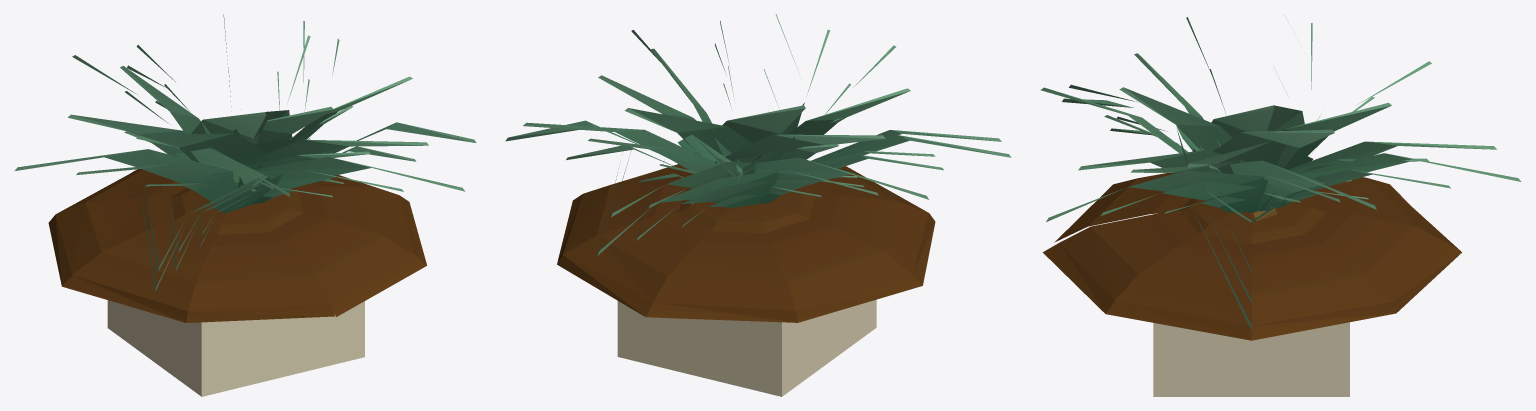
The model's file is cauliflower.glb.
3 views of the same model, side by side, from view 1: azimuth 30°, elevation 25°; view 2: azimuth 150°, elevation 25°; view 3: azimuth 270°, elevation 25° (orthographic). The views are drawn at different scales.
Parts seen in each view (by area): view 1: stage2_soil, fruit_fruitMatte, stage4_leaf, stage4_l1_leaf, stage0_soil, stage3_leaf, stage3_l1_leaf, stage2_leaf; view 2: stage2_soil, fruit_fruitMatte, stage4_leaf, stage4_l1_leaf, stage0_soil, stage3_leaf, stage3_l1_leaf, stage2_leaf; view 3: stage2_soil, stage4_leaf, fruit_fruitMatte, stage4_l1_leaf, stage0_soil, stage3_leaf, stage2_leaf, stage3_l1_leaf.
Boxes of the visible parts, bbox=[...] form: stage2_soil: bbox=[48, 169, 426, 322]; fruit_fruitMatte: bbox=[107, 300, 364, 396]; stage4_leaf: bbox=[14, 14, 476, 291]; stage4_l1_leaf: bbox=[68, 21, 474, 270]; stage0_soil: bbox=[169, 188, 303, 234]; stage3_leaf: bbox=[76, 67, 414, 270]; stage3_l1_leaf: bbox=[124, 71, 416, 252]; stage2_leaf: bbox=[145, 179, 343, 246]; stage2_soil: bbox=[557, 164, 935, 322]; fruit_fruitMatte: bbox=[617, 299, 876, 396]; stage4_leaf: bbox=[523, 14, 1011, 255]; stage4_l1_leaf: bbox=[505, 21, 1001, 217]; stage0_soil: bbox=[678, 188, 815, 233]; stage3_leaf: bbox=[566, 69, 943, 240]; stage3_l1_leaf: bbox=[569, 66, 935, 207]; stage2_leaf: bbox=[659, 164, 863, 226]; stage2_soil: bbox=[1043, 173, 1461, 340]; stage4_leaf: bbox=[1040, 17, 1520, 330]; fruit_fruitMatte: bbox=[1153, 212, 1349, 396]; stage4_l1_leaf: bbox=[1069, 15, 1496, 258]; stage0_soil: bbox=[1160, 197, 1325, 243]; stage3_leaf: bbox=[1101, 69, 1450, 222]; stage2_leaf: bbox=[1164, 190, 1368, 271]; stage3_l1_leaf: bbox=[1116, 116, 1428, 303].
Bounding box in the file's own units: 0.7041 × 0.4253 × 0.6355.
